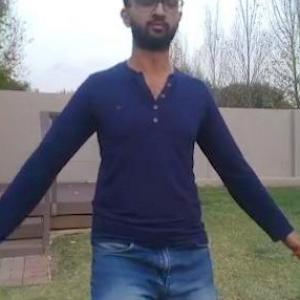land: (1, 3, 289, 299)
